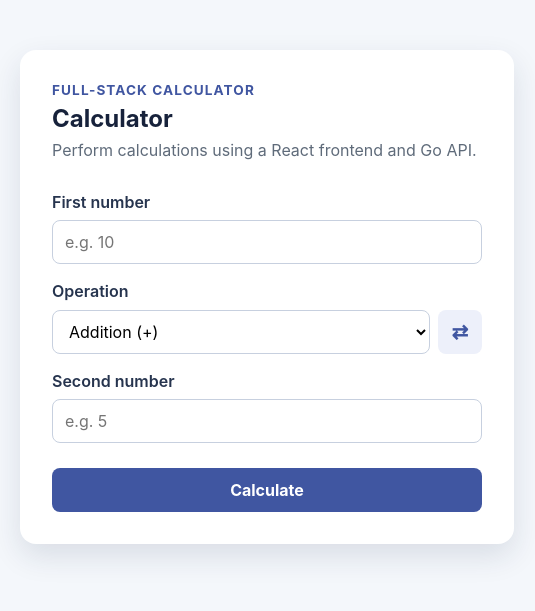
Calculator app › shows a validation error when required fields are empty
Click the button "Calculate". click: (267, 490)
box: top-left (52, 468), bottom-right (482, 512)
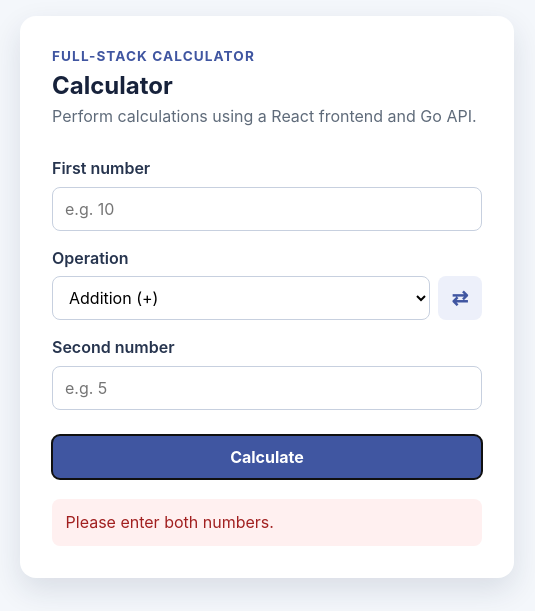
Result: the message reads "Please enter both numbers." at top-left (66, 512), bottom-right (274, 532)
